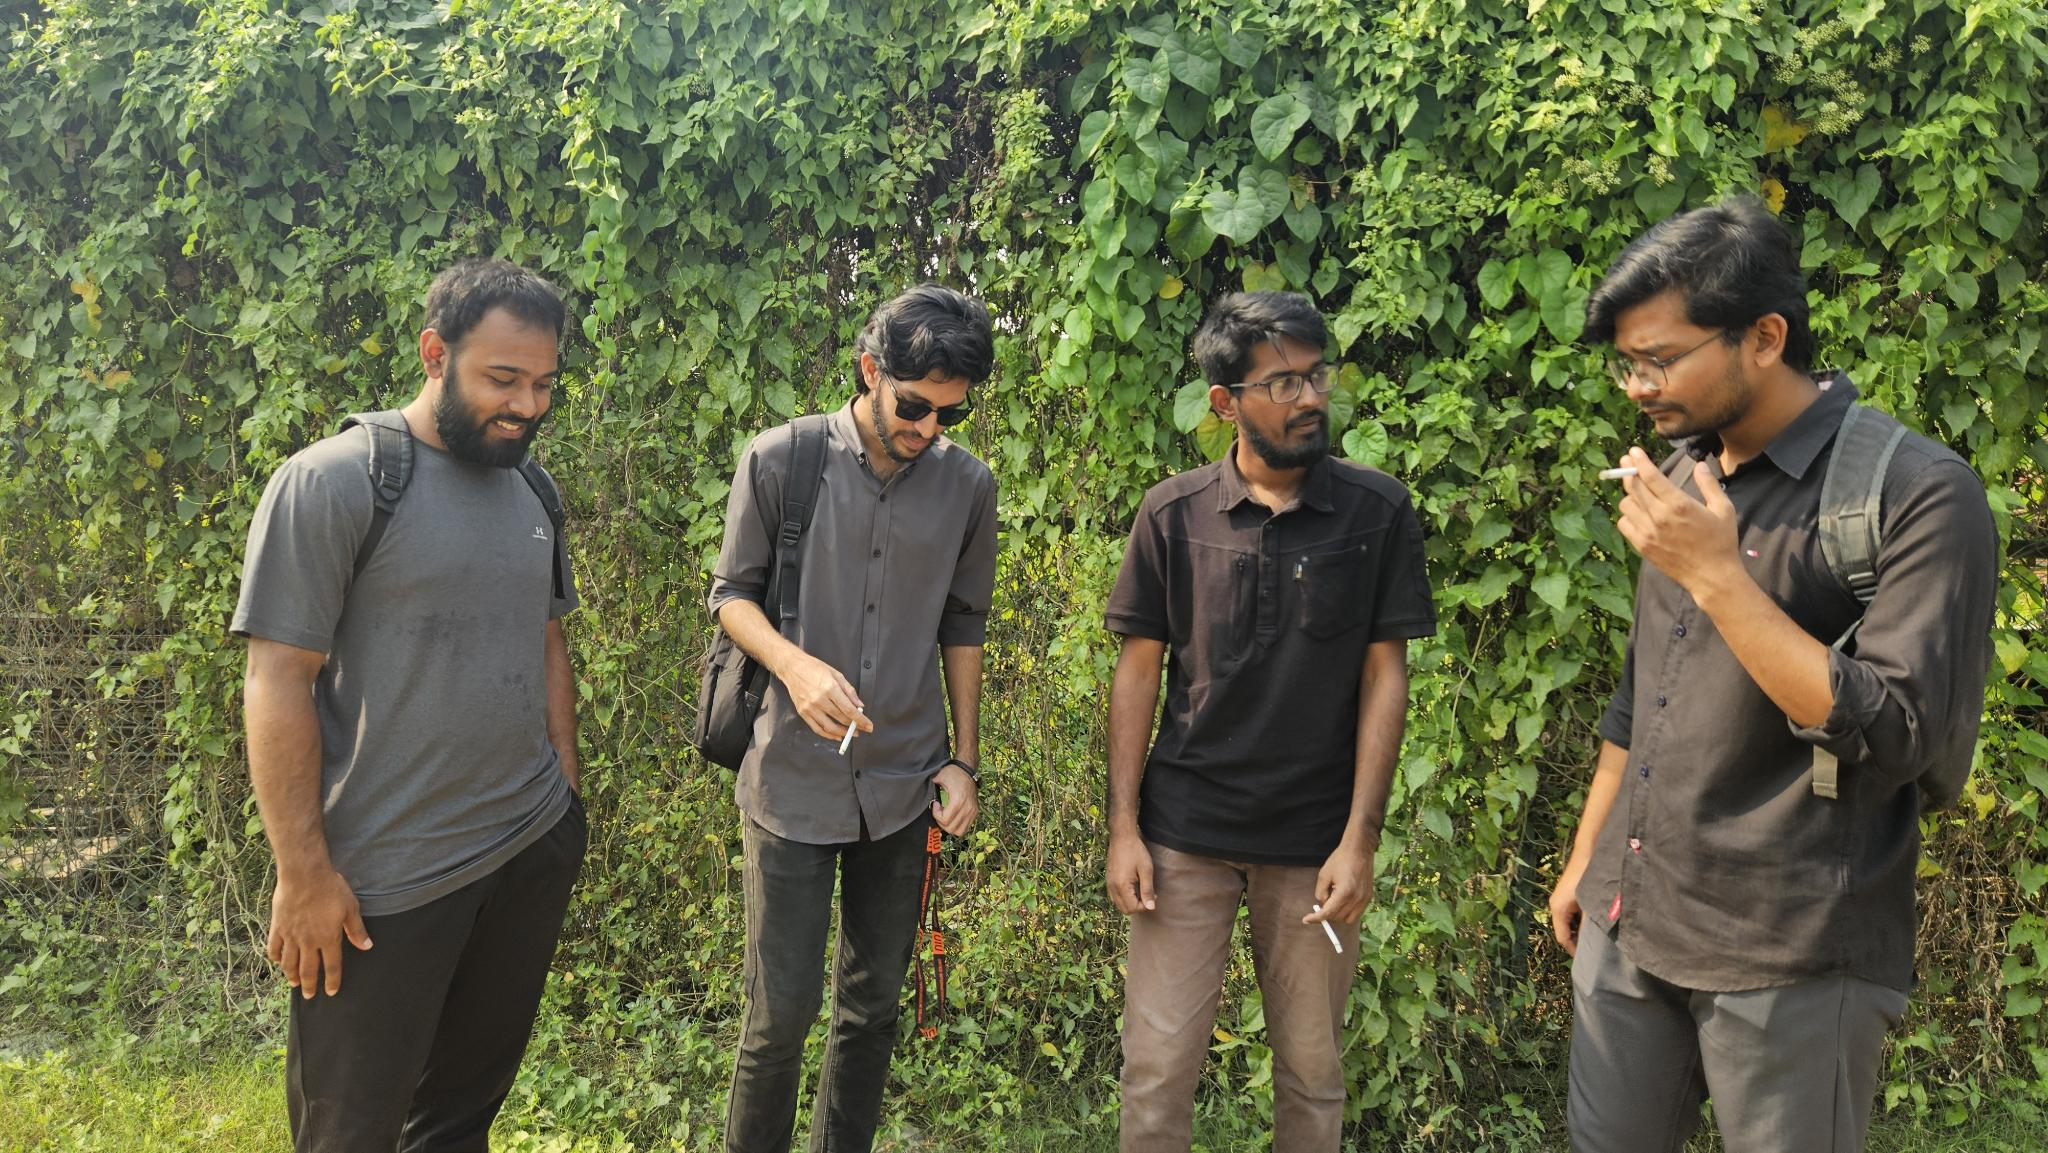cigarette: (1312, 904, 1345, 955), (837, 706, 865, 756), (1596, 465, 1640, 482)
nonSmoker: (231, 259, 588, 1153)
smoker: (1547, 201, 2000, 1153), (1104, 291, 1436, 1153), (692, 281, 999, 1153)
